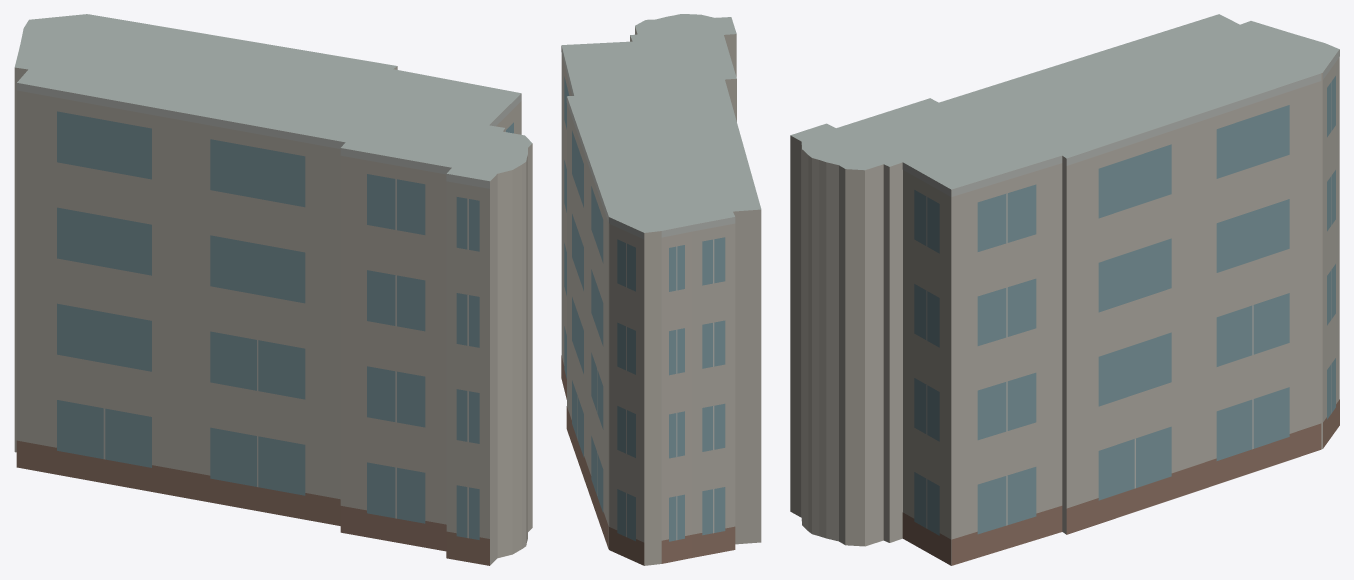
Rendered from survey-upis-32474500.glb.
The picture shows the model from 3 angles, left to right: view 1: azimuth 30°, elevation 25°; view 2: azimuth 150°, elevation 25°; view 3: azimuth 270°, elevation 25°; orthographic projection. The views are drawn at different scales.
Visible parts, largest first — view 1: survey-upis-32474500.tmp; view 2: survey-upis-32474500.tmp; view 3: survey-upis-32474500.tmp.
Boxes of the visible parts, box(x1,y1,x2,y2) form: survey-upis-32474500.tmp: box(14, 14, 532, 565); survey-upis-32474500.tmp: box(561, 14, 761, 565); survey-upis-32474500.tmp: box(790, 14, 1339, 565).
Size of the model in its own units: 12.22 by 12.2 by 16.15.
